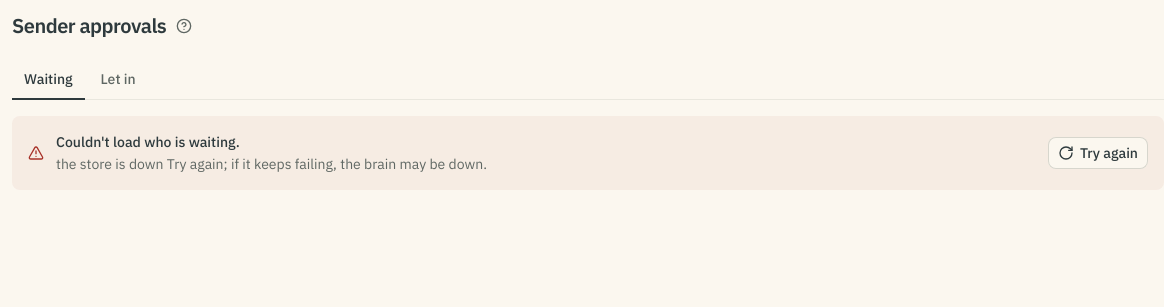
Test: says why the queue could not be read, and reads it again on request
Expected: the message shows "the store is down", [56,155,167,173]
Step 1. Click the button "Try again" → (1098, 153), box [1048,137,1148,169]
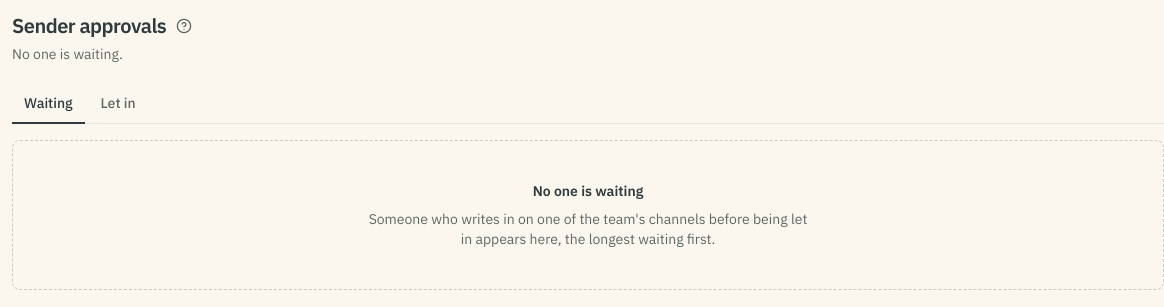
Expected: the heading "No one is waiting" is shown, [533,182,643,200]
